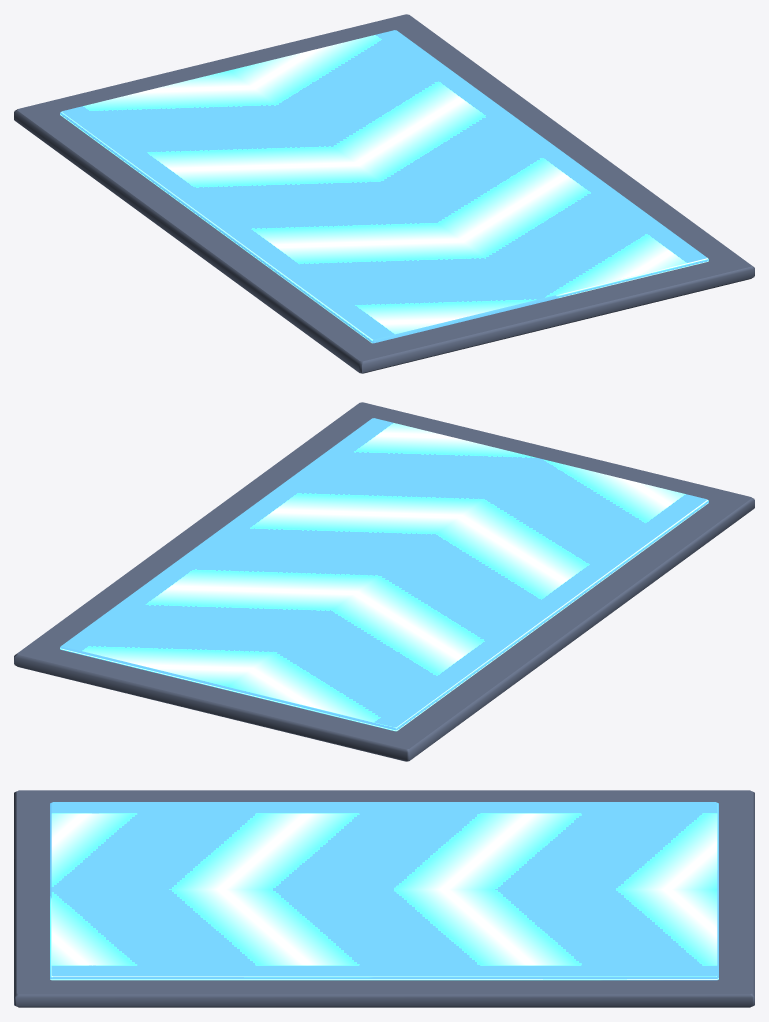
The model's file is boost_pad.glb.
The picture shows the model from 3 angles, top to bottom: view 1: azimuth 30°, elevation 25°; view 2: azimuth 150°, elevation 25°; view 3: azimuth 270°, elevation 25°; orthographic projection. The views are drawn at different scales.
Visible parts, largest first — view 1: BoostDeck, BoostFrame; view 2: BoostDeck, BoostFrame; view 3: BoostDeck, BoostFrame.
Boxes of the visible parts, x1,y1,x2,y2 form: BoostDeck: (60, 30, 708, 343); BoostFrame: (14, 14, 754, 373); BoostDeck: (60, 418, 708, 731); BoostFrame: (14, 402, 754, 761); BoostDeck: (50, 802, 718, 980); BoostFrame: (14, 790, 754, 1007).
Bounding box in the file's own units: 2.7 × 0.1 × 4.1.
2 materials, 1 textured.
